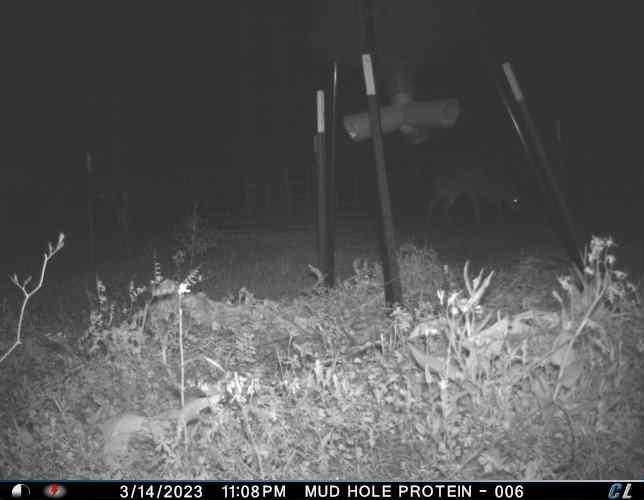Deer: (426, 159, 525, 234)
